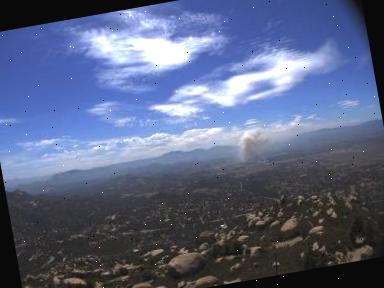smoke: (232, 117, 307, 166)
